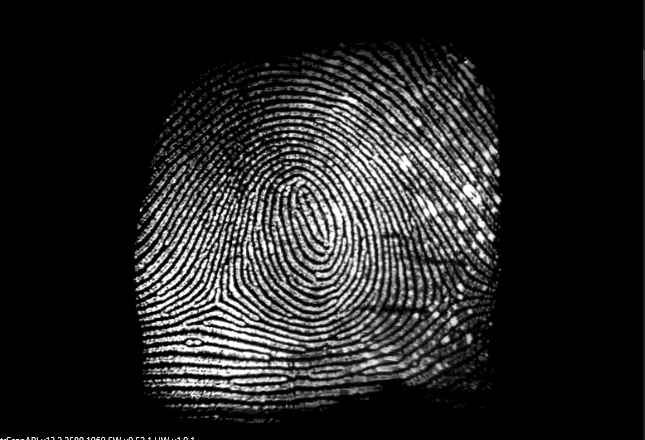nucelo: (285, 183, 330, 248)
verticilo: (438, 278, 468, 312), (199, 287, 236, 314)
